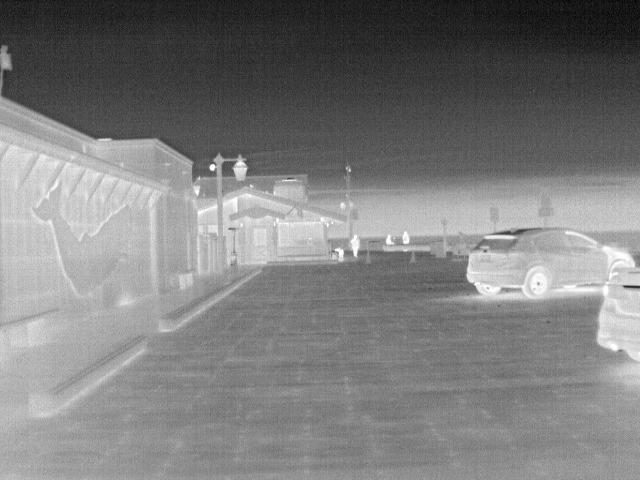car: (463, 225, 637, 300), (592, 262, 640, 364)
dog: (328, 248, 343, 264)
person: (349, 234, 362, 262), (398, 228, 412, 246), (382, 232, 398, 246)
